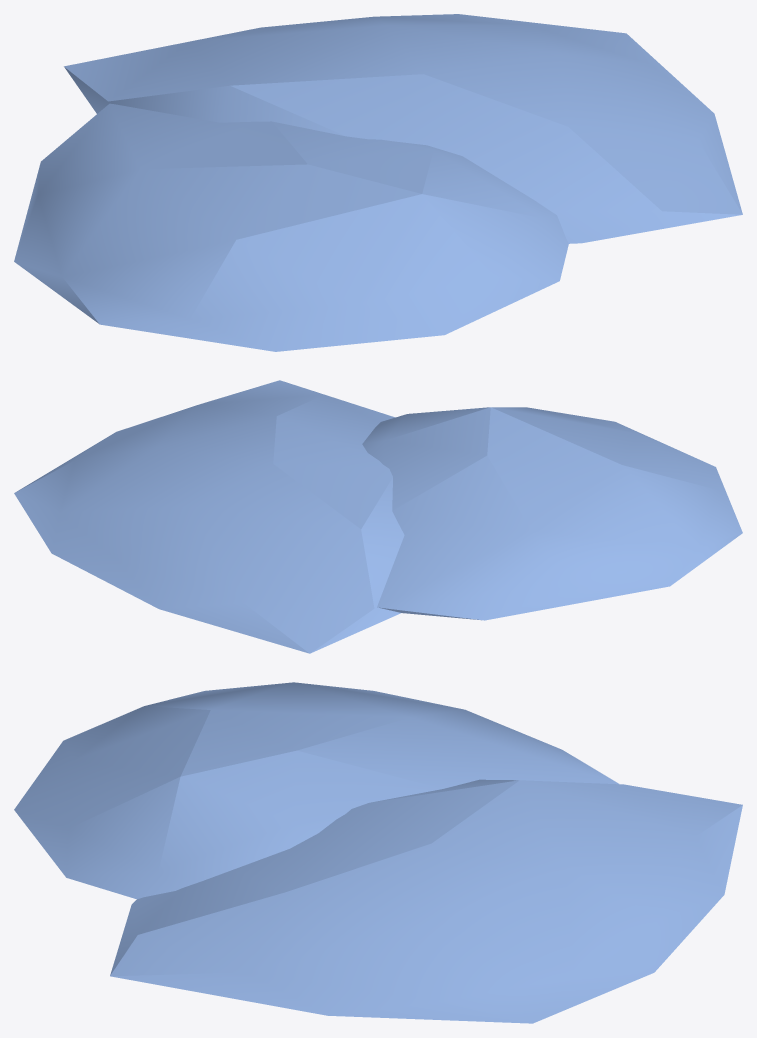
File: ice_pile.fbx
The picture shows the model from 3 angles, top to bottom: view 1: azimuth 30°, elevation 25°; view 2: azimuth 150°, elevation 25°; view 3: azimuth 270°, elevation 25°; orthographic projection. The views are drawn at different scales.
Parts seen in each view (by area): view 1: Icosphere; view 2: Icosphere; view 3: Icosphere.
Boxes of the visible parts, x1=… form: Icosphere: x1=14, y1=14, x2=742, y2=351; Icosphere: x1=14, y1=380, x2=742, y2=653; Icosphere: x1=14, y1=682, x2=742, y2=1023.
Size of the model in its own units: 820 by 72.32 by 759.
